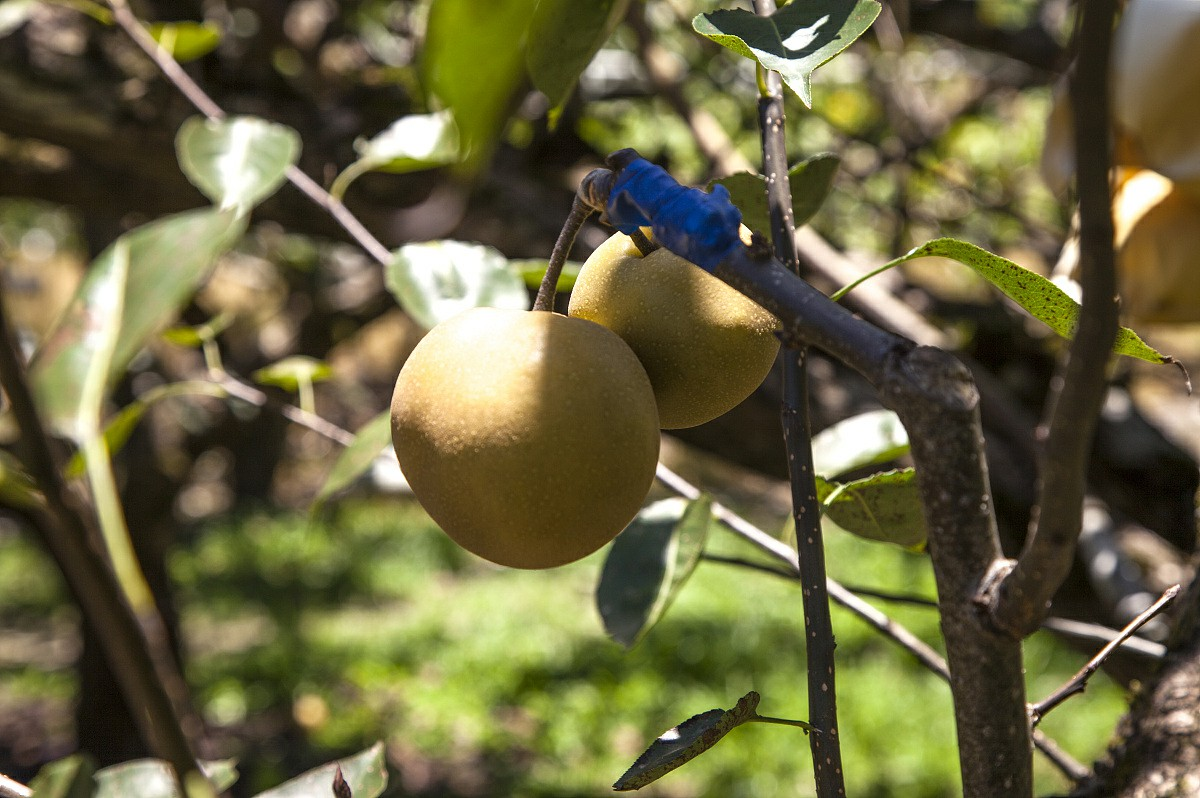pear: (390, 305, 660, 571), (569, 216, 788, 429)
